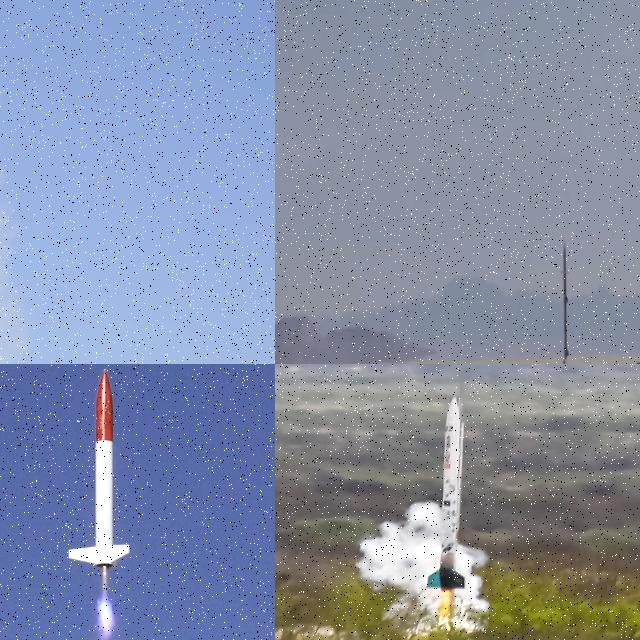Rocket: (67, 367, 133, 571), (426, 396, 465, 591), (563, 241, 569, 359)
